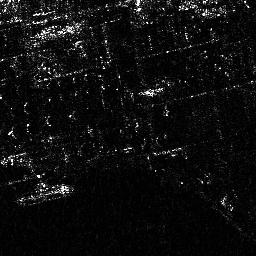ship: (14, 182, 73, 205)
